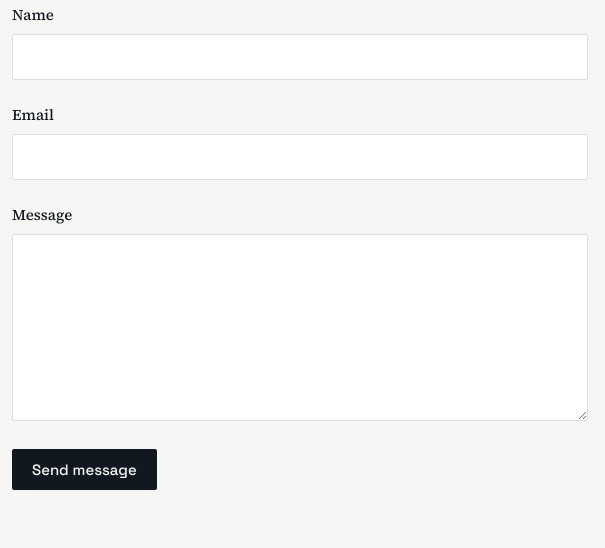
it: ContactForm › shows an error message on failure
The image size is (605, 548).
Type "Jane Doe" into the field labelled "Name" at {"x": 300, "y": 57}, box x1=12 y1=34 x2=588 y2=80
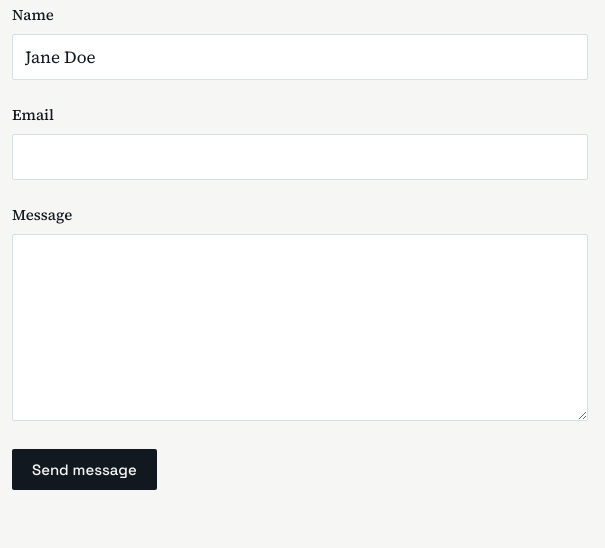
Type "jane@example.com" into the field labelled "Email" at {"x": 300, "y": 157}, box x1=12 y1=134 x2=588 y2=180
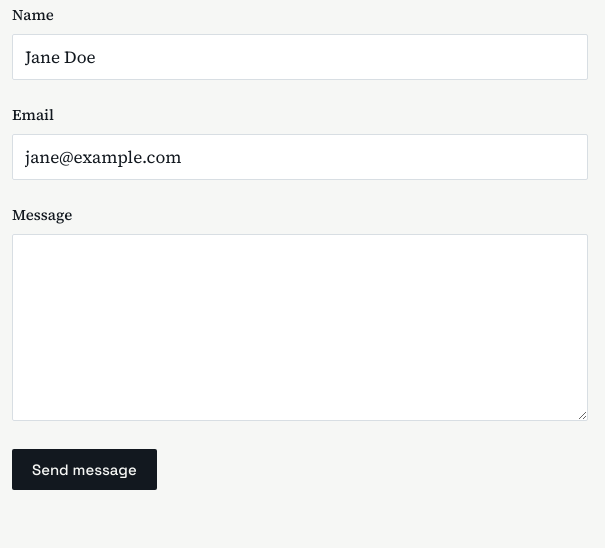
Type "Interested in working together." into the text box labelled "Message" at {"x": 300, "y": 327}, box x1=12 y1=234 x2=588 y2=420
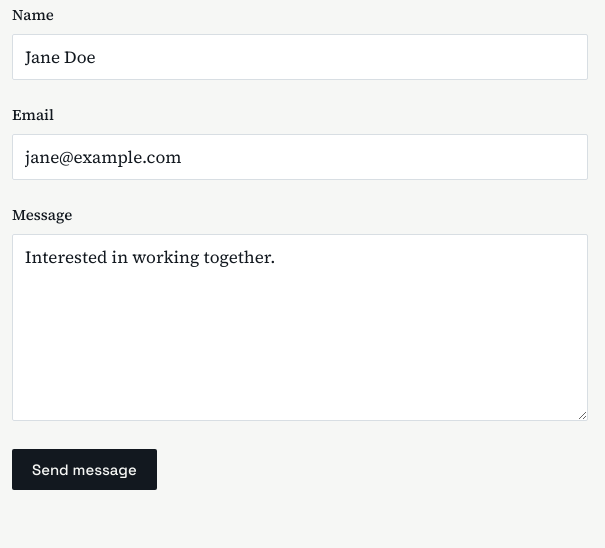
Click the button "Send message" at {"x": 84, "y": 469}, box x1=12 y1=449 x2=157 y2=490
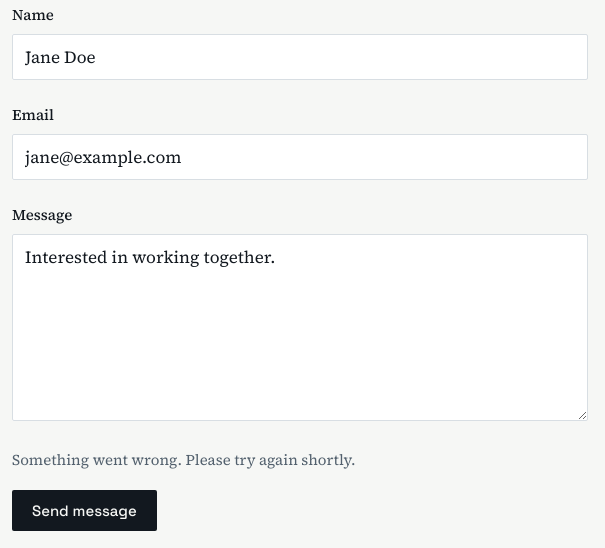
Now the message shows "Something went wrong", box x1=12 y1=449 x2=356 y2=470
